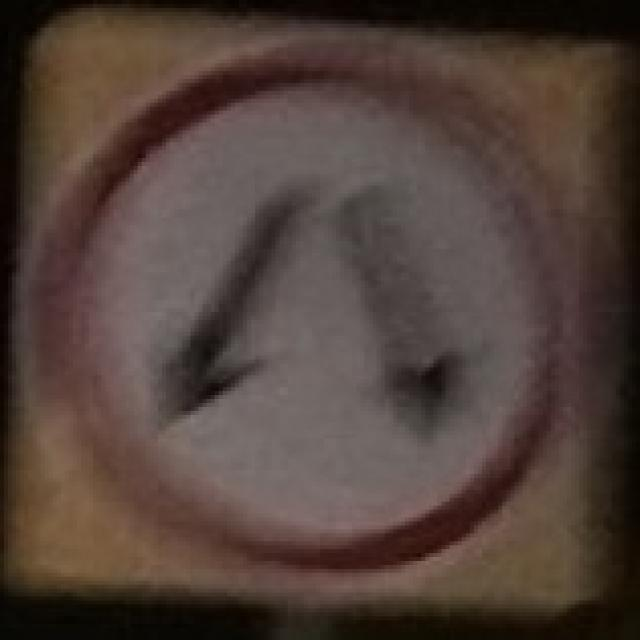pass either side: (42, 39, 569, 571)
